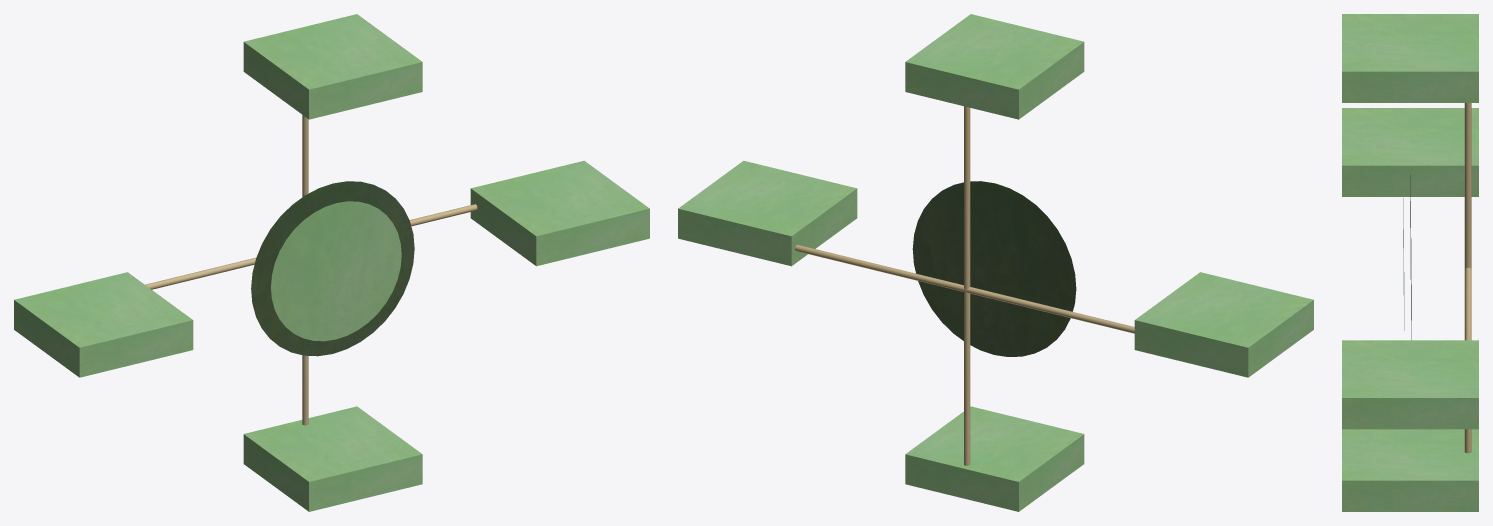
File: giar.fbx
The picture shows the model from 3 angles, left to right: view 1: azimuth 30°, elevation 25°; view 2: azimuth 150°, elevation 25°; view 3: azimuth 270°, elevation 25°; orthographic projection. The views are drawn at different scales.
Parts seen in each view (by area): view 1: tile, flame; view 2: tile, flame; view 3: tile, flame.
Boxes of the visible parts, x1,y1,x2,y2 form: tile: (14, 14, 649, 511); flame: (145, 115, 477, 425); tile: (678, 14, 1313, 511); flame: (795, 106, 1134, 465); tile: (1342, 14, 1478, 511); flame: (1403, 103, 1471, 453).
Bounding box in the file's own units: 1004 × 711 × 200.
Materials: 3 (3 with a texture image).
